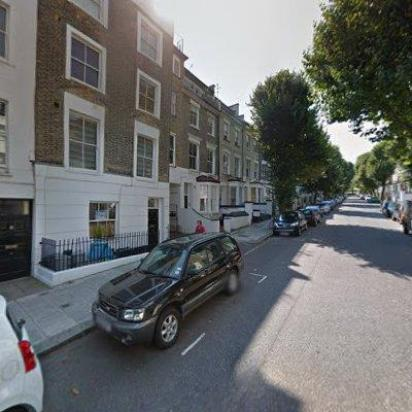stationary-car-onstreet: (90, 230, 242, 354), (1, 282, 46, 410), (268, 209, 308, 235), (296, 207, 320, 228), (398, 198, 410, 234), (390, 201, 402, 223), (382, 201, 397, 215)
